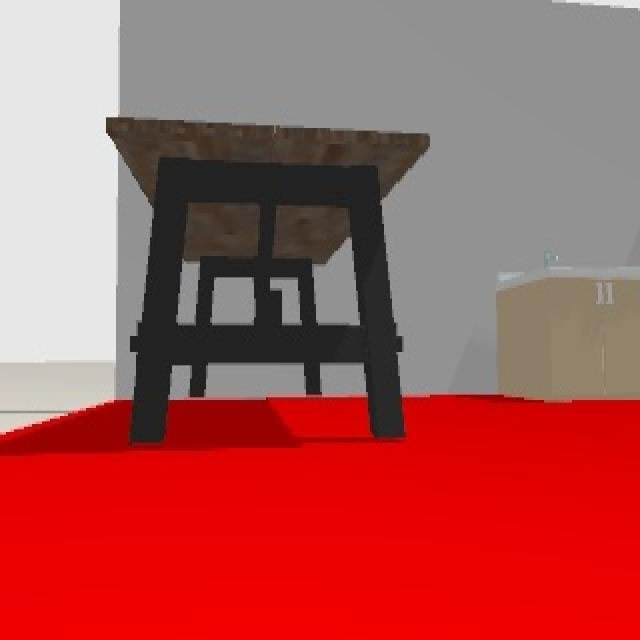dining: (104, 116, 431, 442)
